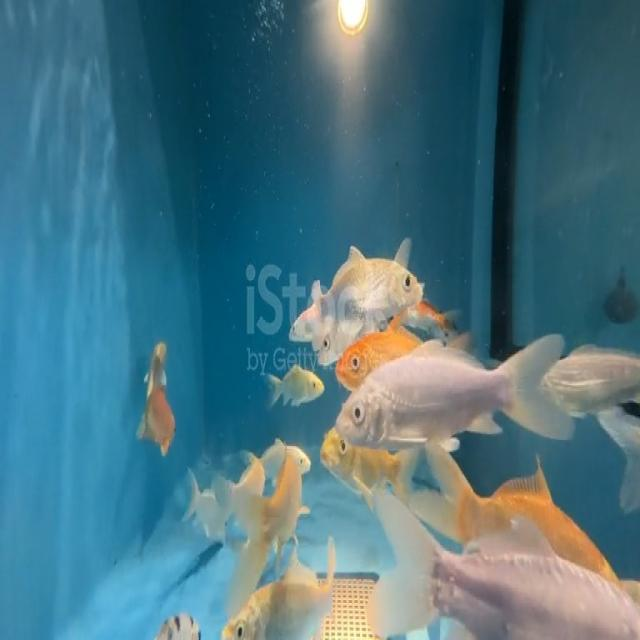fish: (374, 503, 640, 640), (334, 329, 582, 463), (420, 447, 611, 560), (308, 240, 422, 327), (324, 314, 408, 386), (138, 333, 176, 455), (266, 343, 324, 412), (319, 418, 355, 494), (266, 427, 310, 484), (288, 296, 306, 352)
